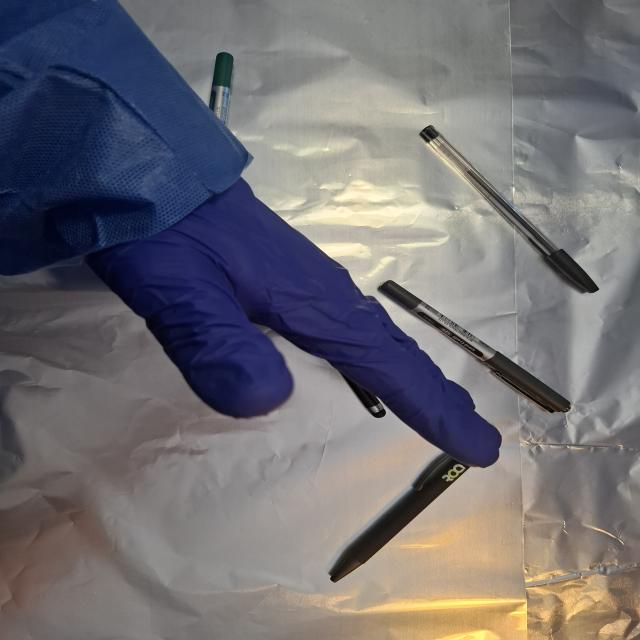glove_on: (78, 171, 506, 470)
